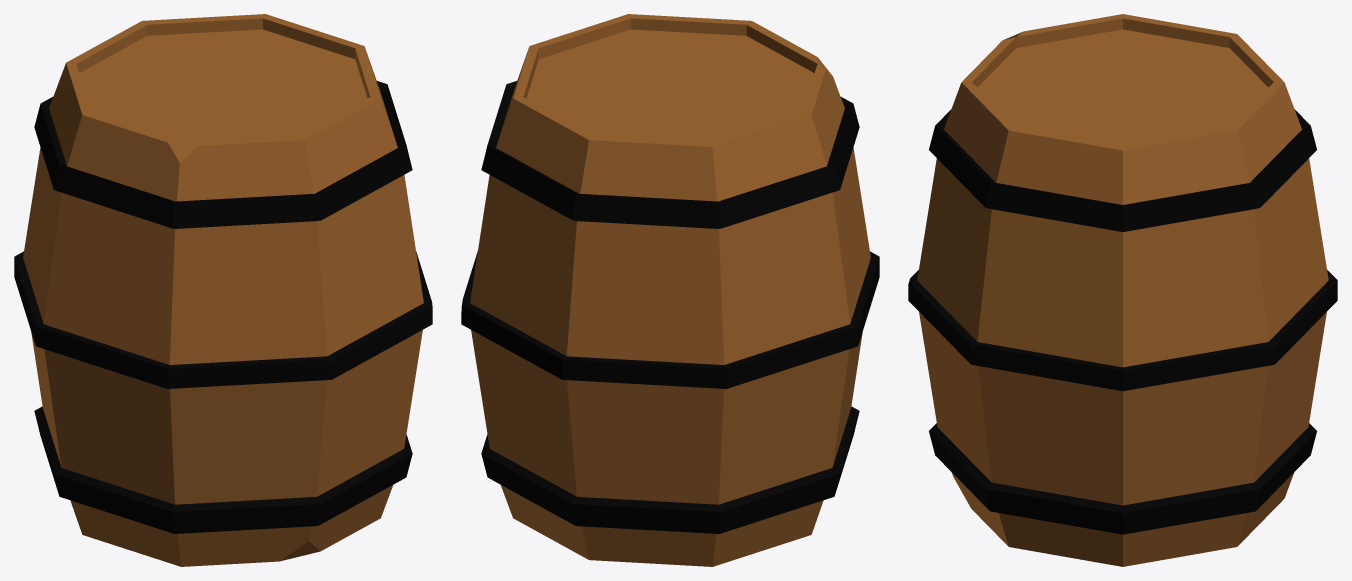
File: Barrel_02.fbx
3 views of the same model, side by side, from view 1: azimuth 30°, elevation 25°; view 2: azimuth 150°, elevation 25°; view 3: azimuth 270°, elevation 25° (orthographic).
Visible parts, largest first — view 1: Barrel_02; view 2: Barrel_02; view 3: Barrel_02.
Boxes of the visible parts, <box> form: Barrel_02: <box>14,14,432,566</box>; Barrel_02: <box>461,14,879,566</box>; Barrel_02: <box>908,14,1337,566</box>.
Bounding box in the file's own units: 47.01 × 50.28 × 47.01.
